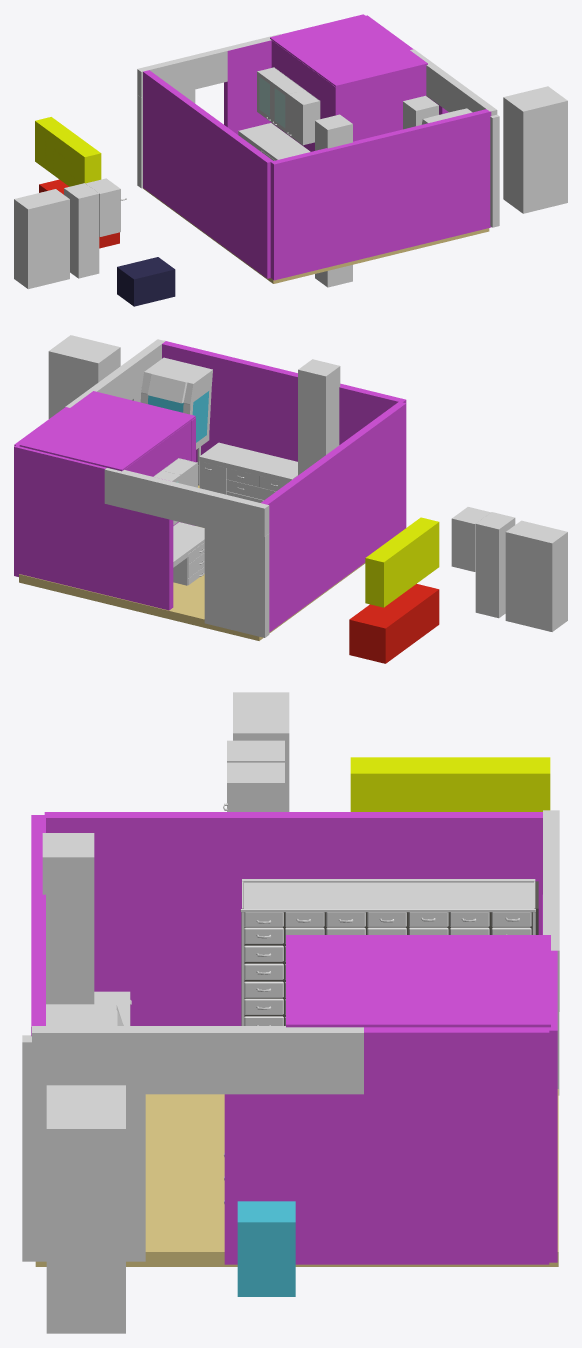
File: medical room new.fbx
3 renders of one model, top to bottom at view 1: azimuth 30°, elevation 25°; view 2: azimuth 150°, elevation 25°; view 3: azimuth 270°, elevation 25°, orthographic. The views are drawn at different scales.
Visible parts, largest first — view 1: Cube.001, Cube.003, Cube.016, Cube.010, Cube.011, Cube.007, Cube.002, Cube.017, Cube.025, Cube.018, Cube.006, Cube.020 (+13 smaller); view 2: Cube.003, Cube.002, Cube.001, Cube.010, Cube.018, Cube.019, Cube.011, Cube.008, Cube.017, Cube.015, Cube.016, Cube (+11 smaller); view 3: Cube.004, Cube.003, Cube.010, Cube.016, Cube.020, Cube, Cube.021, Cube.017, Laatikot, Cube.015, katto, Cube.012 (+10 smaller).
Boxes of the visible parts, <box> form: Cube.001: <box>270,109,491,280</box>; Cube.003: <box>143,70,273,278</box>; Cube.016: <box>503,86,567,213</box>; Cube.010: <box>270,15,427,88</box>; Cube.011: <box>14,189,69,289</box>; Cube.007: <box>332,67,426,141</box>; Cube.002: <box>224,14,366,134</box>; Cube.017: <box>35,117,101,186</box>; Cube.025: <box>64,183,99,278</box>; Cube.018: <box>137,34,281,102</box>; Cube.006: <box>117,257,175,306</box>; Cube.020: <box>410,49,497,115</box>; Cube.003: <box>261,402,406,632</box>; Cube.002: <box>14,444,173,610</box>; Cube.001: <box>162,341,406,462</box>; Cube.010: <box>19,391,195,471</box>; Cube.018: <box>104,468,269,542</box>; Cube.019: <box>204,528,269,637</box>; Cube.011: <box>505,520,567,631</box>; Cube.008: <box>349,584,439,663</box>; Cube.017: <box>365,517,439,607</box>; Cube.015: <box>298,359,340,475</box>; Cube.016: <box>48,335,120,418</box>; Cube: <box>19,485,365,640</box>; Cube.004: <box>224,1027,549,1264</box>; Cube.003: <box>44,812,542,1025</box>; Cube.010: <box>286,935,550,1027</box>; Cube.016: <box>46,1085,125,1333</box>; Cube.020: <box>32,1026,363,1094</box>; Cube: <box>35,1089,558,1266</box>; Cube.021: <box>22,1035,145,1261</box>; Cube.017: <box>350,757,550,811</box>; Laatikot: <box>244,912,531,1025</box>; Cube.015: <box>42,833,94,1004</box>; katto: <box>243,882,533,908</box>; Cube.012: <box>237,1201,295,1296</box>.
Bounding box in the file's own units: 1376 × 420 × 649.
